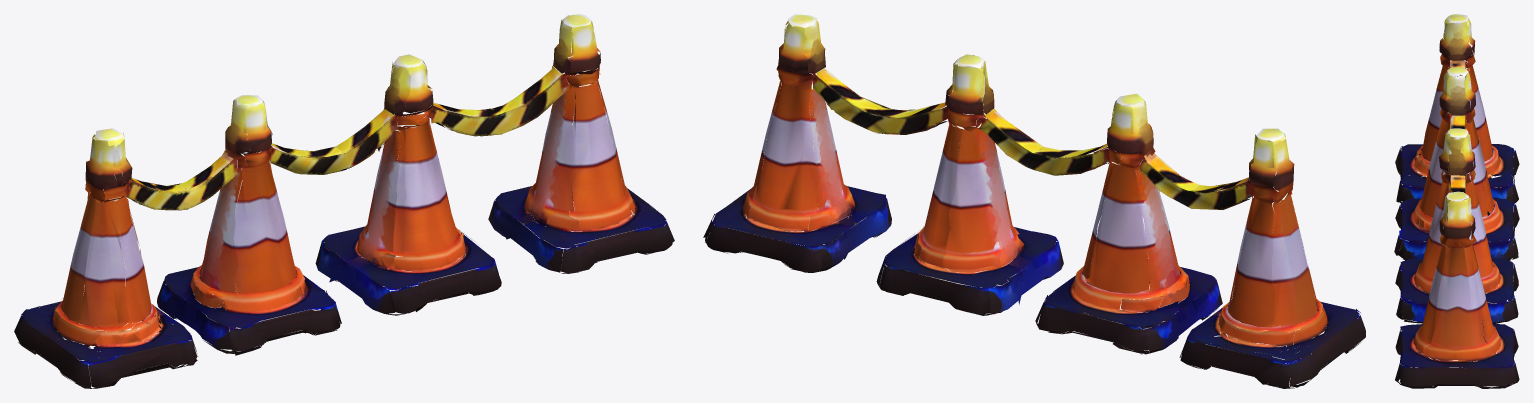
File: h3-cone-row.glb
3 renders of one model, left to right at view 1: azimuth 30°, elevation 25°; view 2: azimuth 150°, elevation 25°; view 3: azimuth 270°, elevation 25°, orthographic. The views are drawn at different scales.
Parts seen in each view (by area): view 1: tmpl33c62nt.ply; view 2: tmpl33c62nt.ply; view 3: tmpl33c62nt.ply.
Boxes of the visible parts, x1,y1,x2,y2 form: tmpl33c62nt.ply: (14, 14, 674, 388); tmpl33c62nt.ply: (703, 14, 1365, 388); tmpl33c62nt.ply: (1394, 14, 1519, 388).
Bounding box in the file's own units: 2 × 0.6981 × 0.4624.
1 material, 1 textured.
